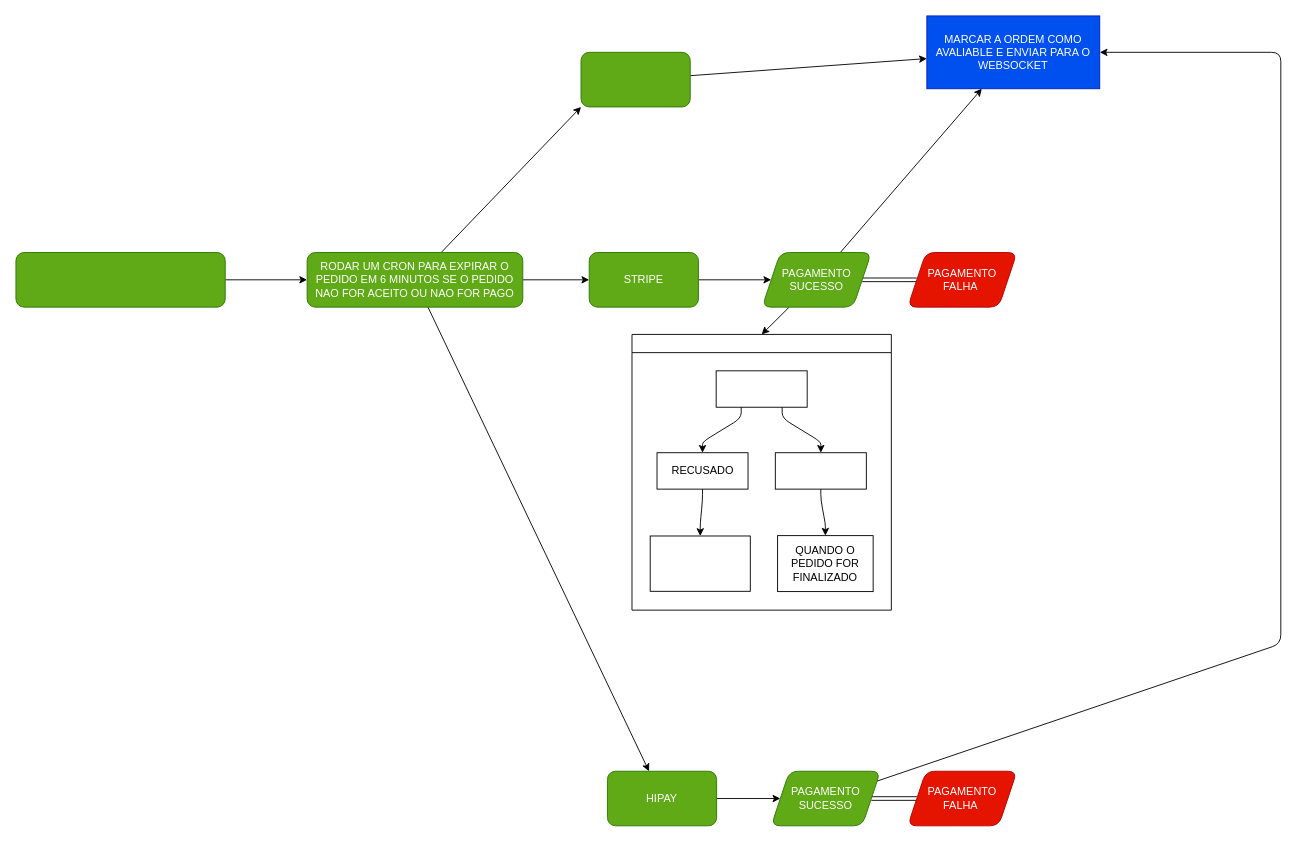
Image size: 1304x842. Some labels were removed from this diagram. Here are the shapes that lost their labels. From the top down, the box of each, then its label:
(580, 51, 690, 107): PAGAMENTO LOCAL
(15, 252, 225, 307): PEDIDO EFETUADO
(715, 370, 807, 407): PEDIDO
(774, 452, 866, 489): ACEITO
(649, 535, 750, 591): EXTORNA O VALOR TOTAL PARA O CLIENTE
